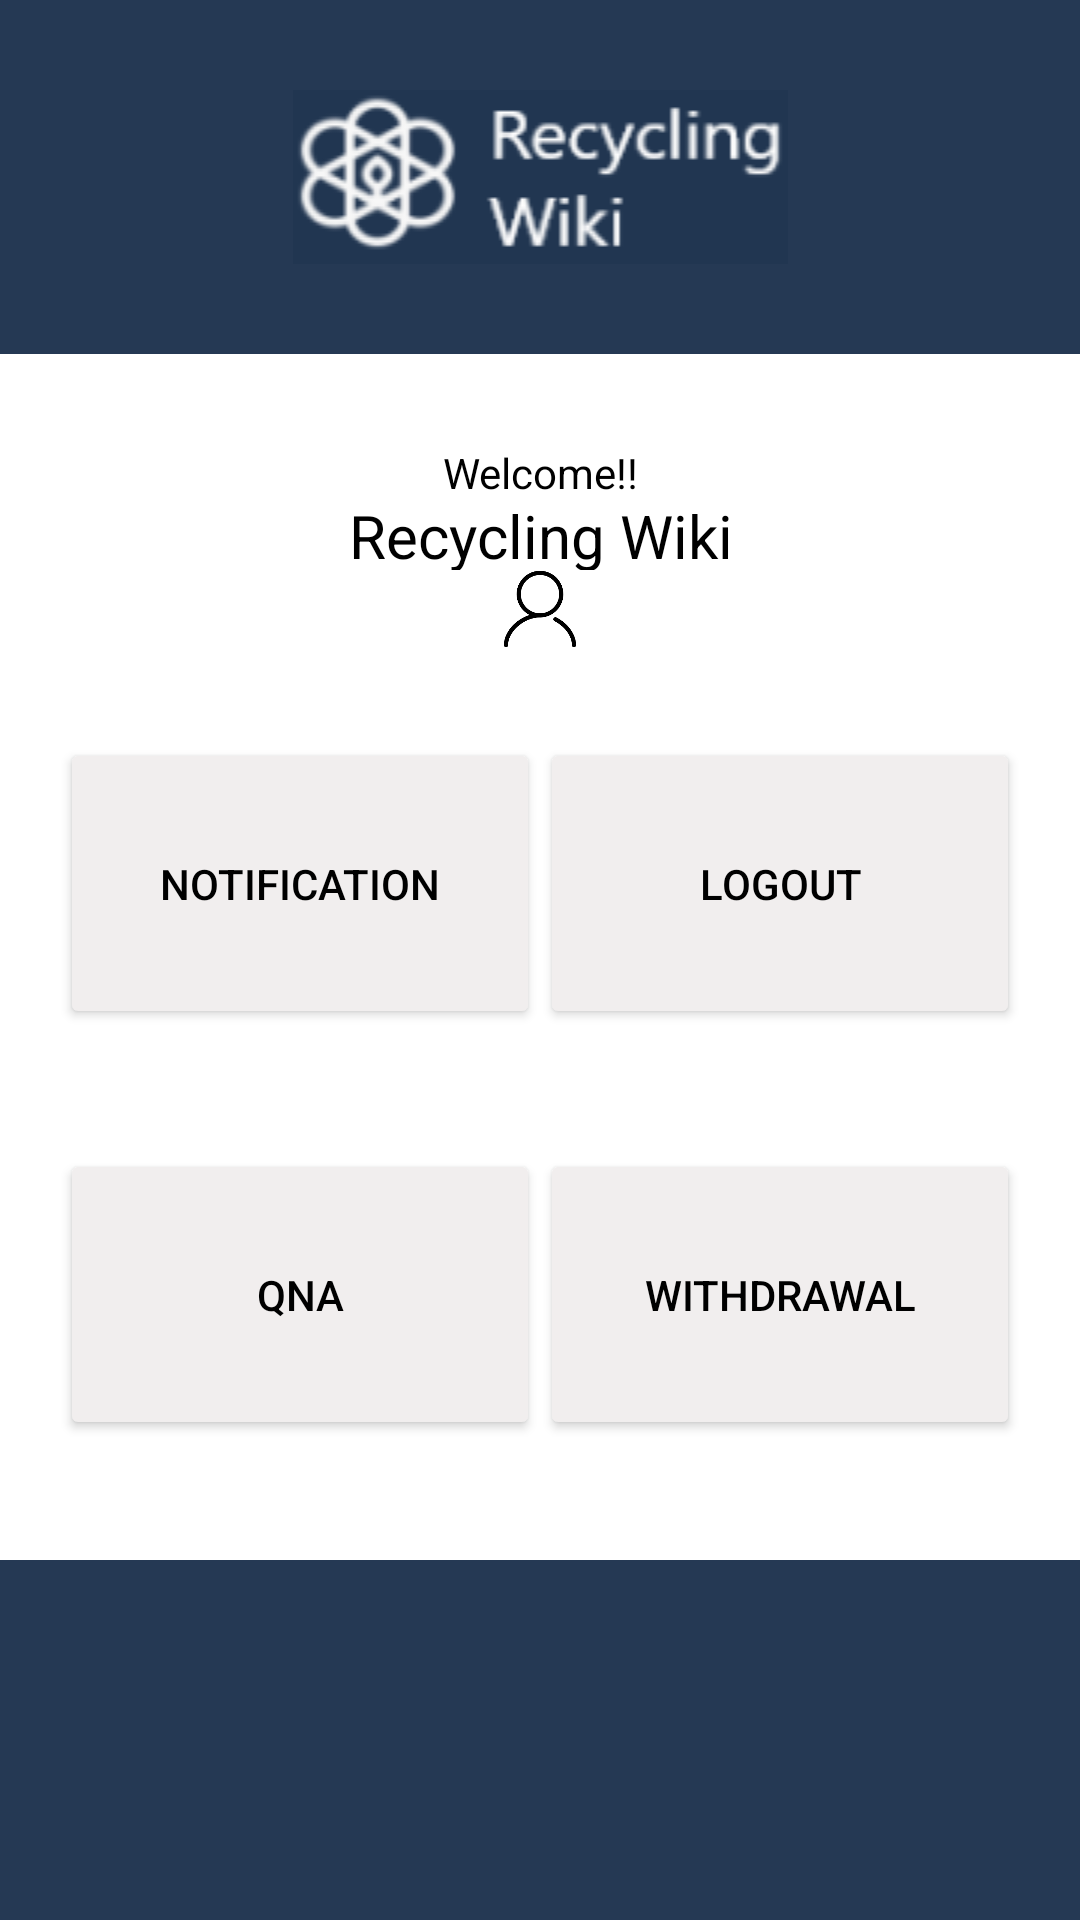

Screen size 1080*1920. Icon name, then its center in pixels as (x=x, y=y):
face: (x=540, y=609)
